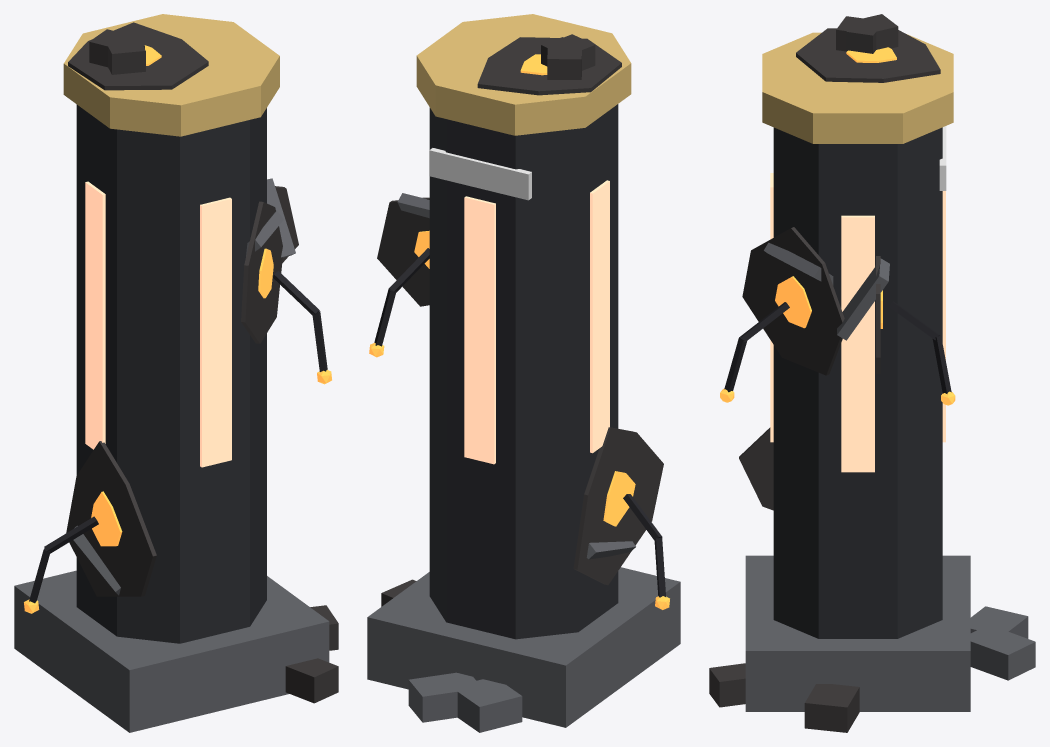
The model's file is Aegis_PulsePost.fbx.
The picture shows the model from 3 angles, left to right: view 1: azimuth 30°, elevation 25°; view 2: azimuth 150°, elevation 25°; view 3: azimuth 270°, elevation 25°; orthographic projection. The views are drawn at different scales.
Visible parts, largest first — view 1: PP_Post, PP_Footing, PP_Cap, PP_Light2, Aegis_PulsePost_DmgScorch1, PP_Light3, Aegis_PulsePost_DmgScorch3, Aegis_PulsePost_DmgScorch2, Aegis_PulsePost_DmgRubble0, Aegis_PulsePost_DmgChunk30, Aegis_PulsePost_DmgEmber1, Aegis_PulsePost_DmgWire2 (+6 smaller); view 2: PP_Post, PP_Footing, PP_Cap, PP_Light0, Aegis_PulsePost_DmgScorch1, PP_Light3, Aegis_PulsePost_DmgScorch3, Aegis_PulsePost_DmgScorch0, PP_Team, Aegis_PulsePost_DmgRubble3, Aegis_PulsePost_DmgRubble1, Aegis_PulsePost_DmgEmber1 (+6 smaller); view 3: PP_Post, PP_Footing, PP_Cap, Aegis_PulsePost_DmgScorch2, PP_Light1, Aegis_PulsePost_DmgScorch3, Aegis_PulsePost_DmgRubble1, Aegis_PulsePost_DmgRubble2, Aegis_PulsePost_DmgScorch1, Aegis_PulsePost_DmgPanel0, Aegis_PulsePost_DmgRubble0, Aegis_PulsePost_DmgRubble3 (+10 smaller).
Boxes of the visible parts, bbox=[...] form: PP_Post: bbox=[76, 104, 266, 643]; PP_Footing: bbox=[14, 570, 329, 732]; PP_Cap: bbox=[63, 14, 279, 136]; PP_Light2: bbox=[200, 197, 231, 467]; Aegis_PulsePost_DmgScorch1: bbox=[66, 441, 156, 596]; PP_Light3: bbox=[85, 181, 105, 449]; Aegis_PulsePost_DmgScorch3: bbox=[68, 22, 208, 90]; Aegis_PulsePost_DmgScorch2: bbox=[241, 201, 282, 343]; Aegis_PulsePost_DmgRubble0: bbox=[285, 658, 338, 703]; Aegis_PulsePost_DmgChunk30: bbox=[106, 39, 145, 74]; Aegis_PulsePost_DmgEmber1: bbox=[91, 491, 122, 546]; Aegis_PulsePost_DmgWire2: bbox=[273, 271, 327, 371]; PP_Post: bbox=[429, 104, 618, 639]; PP_Footing: bbox=[367, 567, 680, 727]; PP_Cap: bbox=[416, 14, 631, 135]; PP_Light0: bbox=[464, 196, 495, 464]; Aegis_PulsePost_DmgScorch1: bbox=[573, 427, 663, 585]; PP_Light3: bbox=[590, 180, 609, 453]; Aegis_PulsePost_DmgScorch3: bbox=[477, 37, 621, 95]; Aegis_PulsePost_DmgScorch0: bbox=[377, 197, 429, 306]; PP_Team: bbox=[429, 148, 531, 200]; Aegis_PulsePost_DmgRubble3: bbox=[451, 679, 522, 732]; Aegis_PulsePost_DmgRubble1: bbox=[408, 672, 481, 722]; Aegis_PulsePost_DmgEmber1: bbox=[603, 471, 635, 526]; PP_Post: bbox=[773, 127, 942, 638]; PP_Footing: bbox=[745, 555, 970, 711]; PP_Cap: bbox=[762, 32, 953, 143]; Aegis_PulsePost_DmgScorch2: bbox=[742, 227, 844, 375]; PP_Light1: bbox=[841, 215, 874, 472]; Aegis_PulsePost_DmgScorch3: bbox=[796, 28, 940, 82]; Aegis_PulsePost_DmgRubble1: bbox=[970, 630, 1035, 680]; Aegis_PulsePost_DmgRubble2: bbox=[804, 684, 859, 732]; Aegis_PulsePost_DmgScorch1: bbox=[739, 427, 773, 510]; Aegis_PulsePost_DmgPanel0: bbox=[837, 258, 889, 340]; Aegis_PulsePost_DmgRubble0: bbox=[709, 663, 745, 707]; Aegis_PulsePost_DmgRubble3: bbox=[970, 606, 1028, 638].
Bounding box in the file's own units: 0.5918 × 1.21 × 0.5804.
